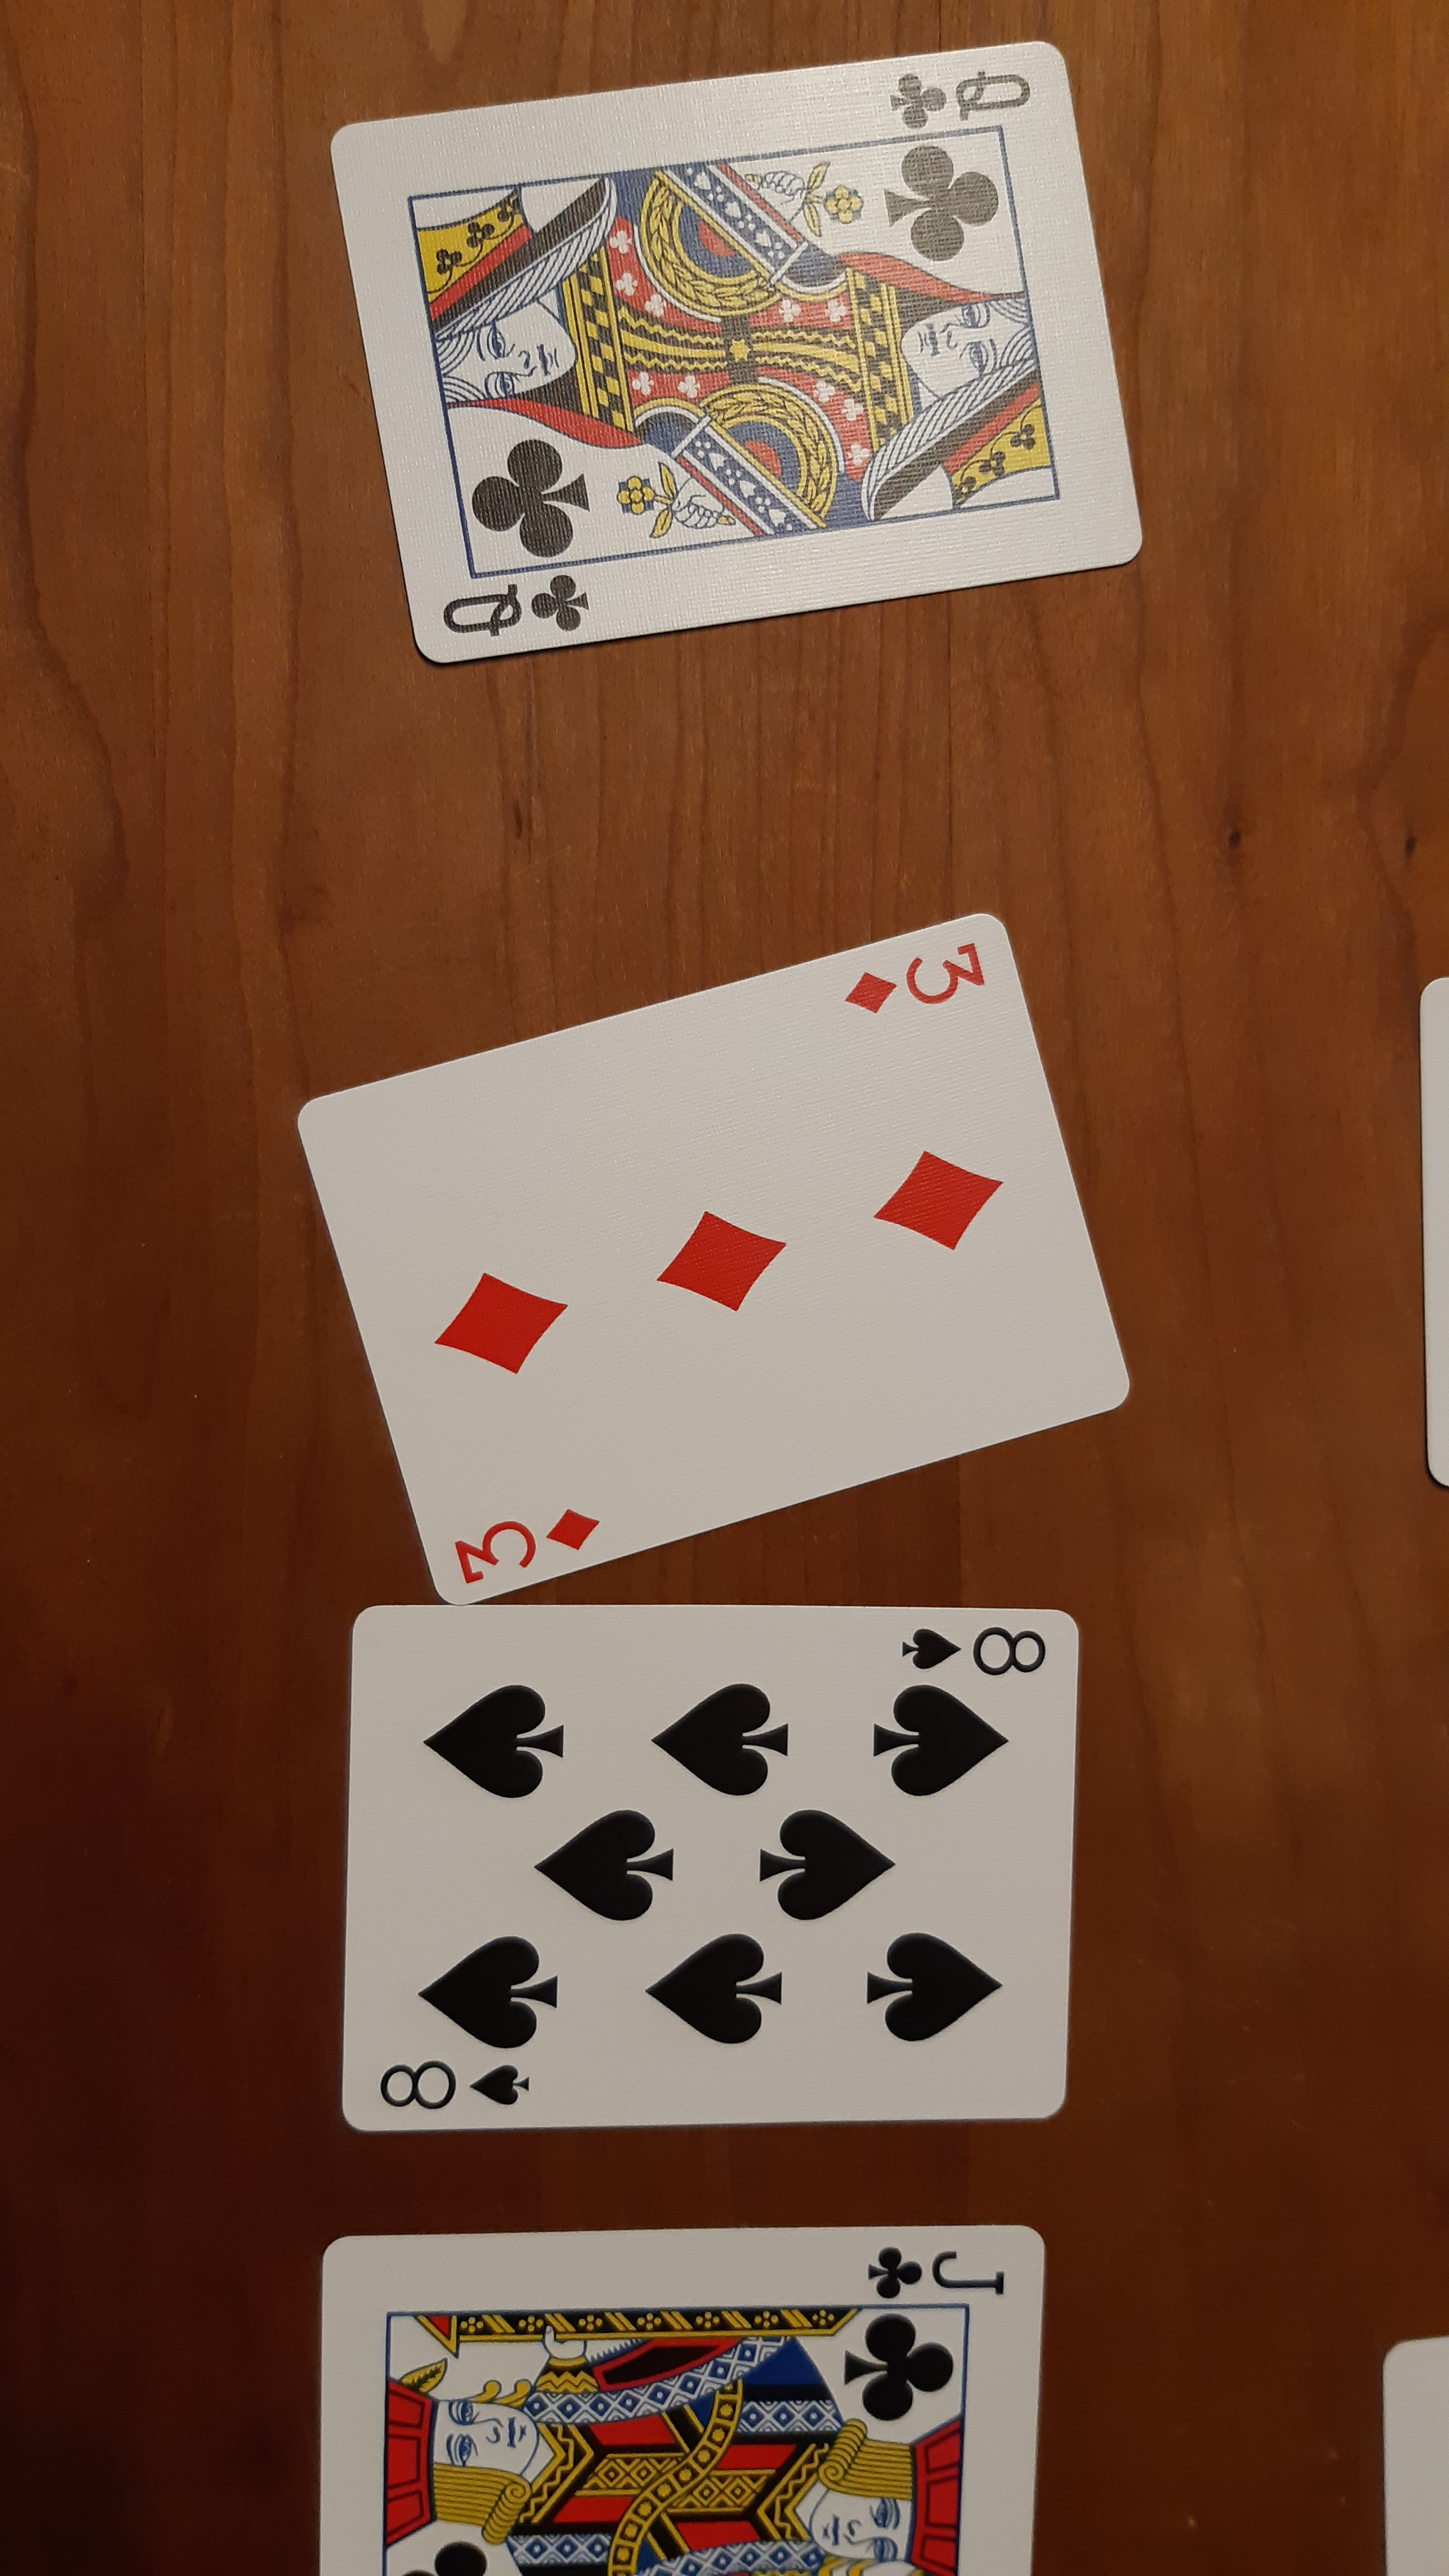Black_Club_Jack: (847, 2229, 1021, 2312)
Black_Club_Queen: (412, 570, 602, 646), (878, 53, 1040, 140)
Black_Spade_8: (361, 2047, 548, 2123), (888, 1610, 1054, 1688)
Red_Diamond_3: (432, 1500, 609, 1594), (837, 929, 994, 1031)
